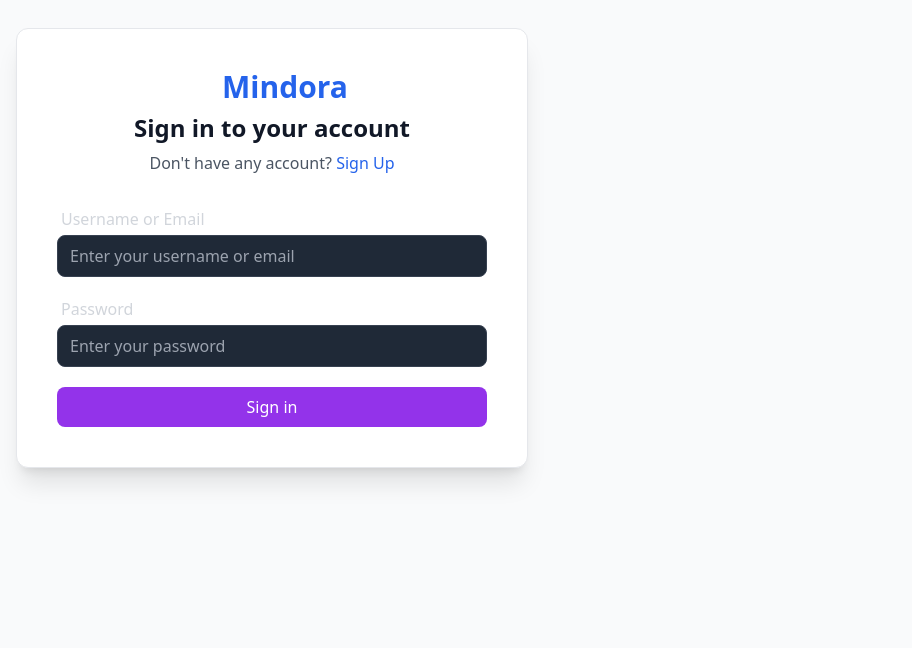
Test case: Auth journey › rejects login with wrong credentials
The width and height of the screenshot is (912, 648).
Step 1. Type "nobody_here" into the field with placeholder "Enter your username or email" → (272, 256), box left=57, top=235, right=487, bottom=277
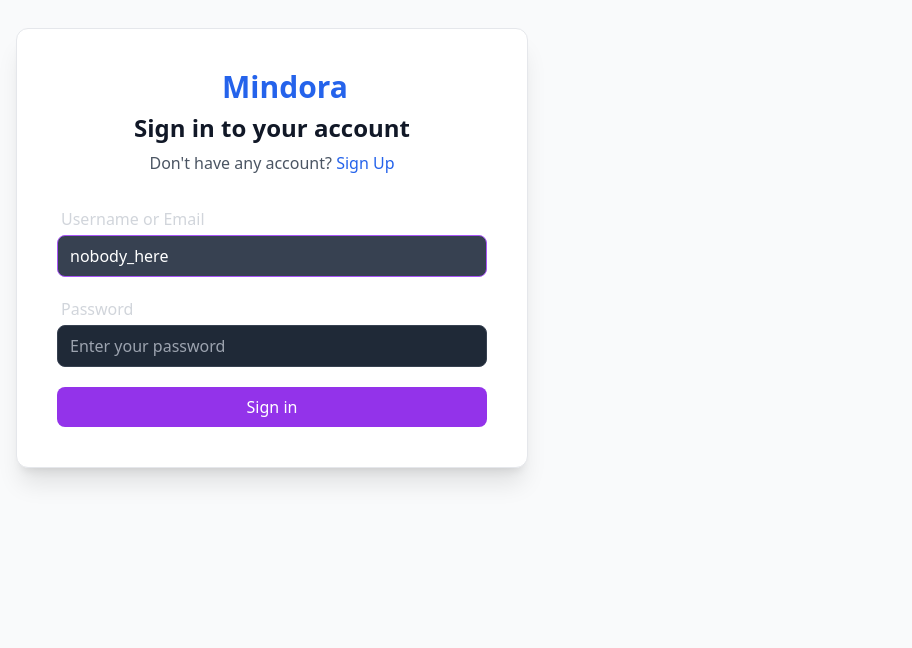
Step 2. Type "wrongpassword" into the password field with placeholder "Enter your password" → (272, 346), box left=57, top=325, right=487, bottom=367
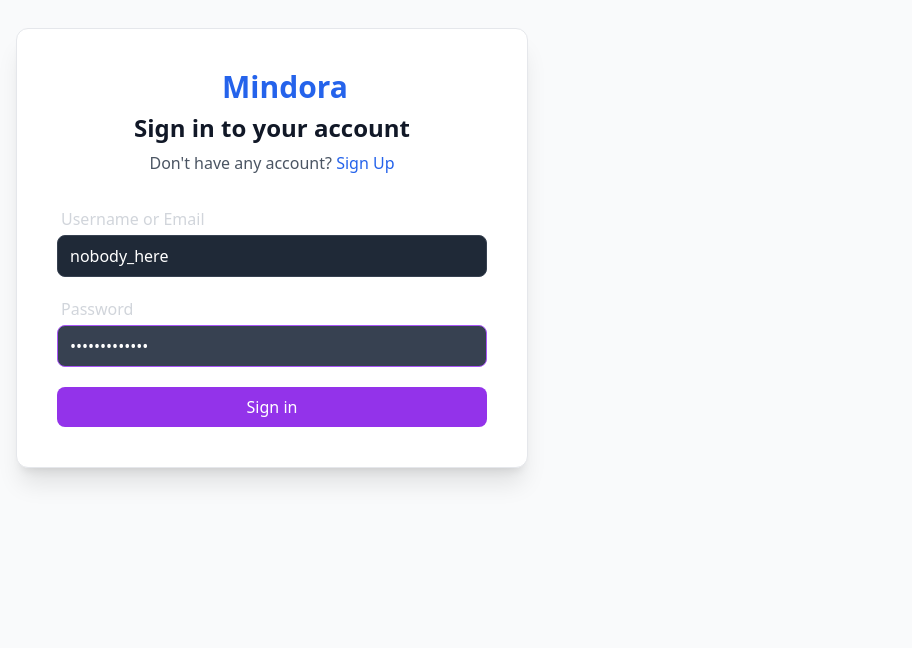
Step 3. Click the button "Sign in" → (272, 407), box left=57, top=387, right=487, bottom=427
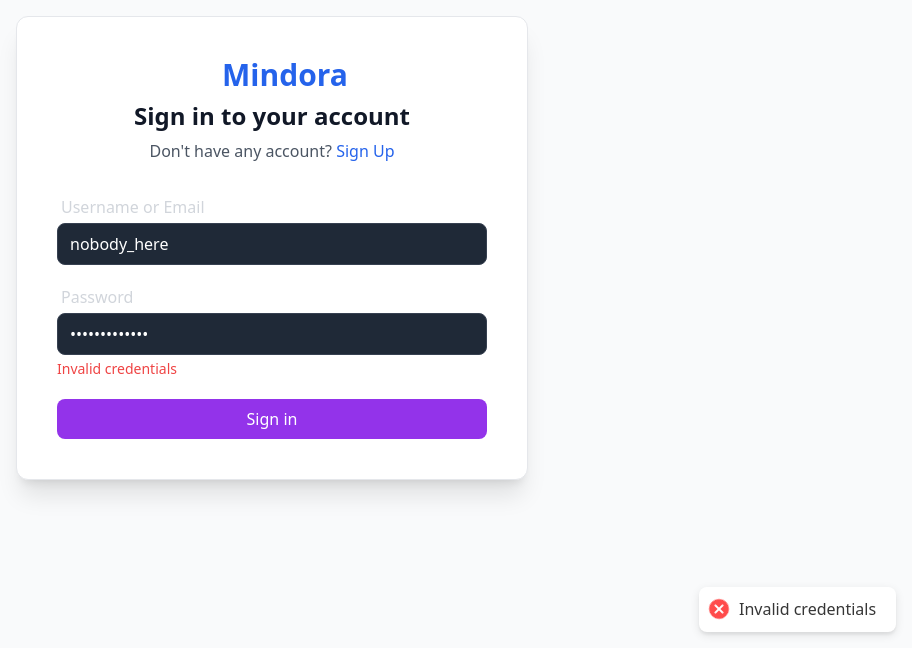
Result: the text "Invalid credentials" is shown at left=57, top=359, right=177, bottom=378
